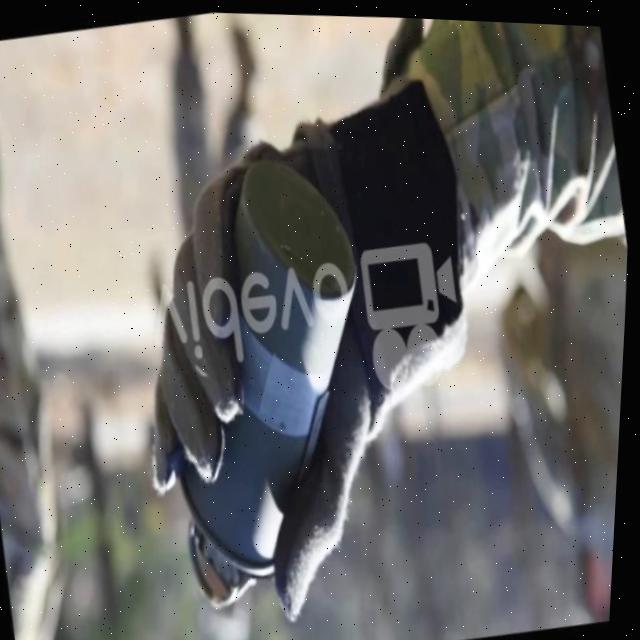grenade: (125, 140, 420, 619)
